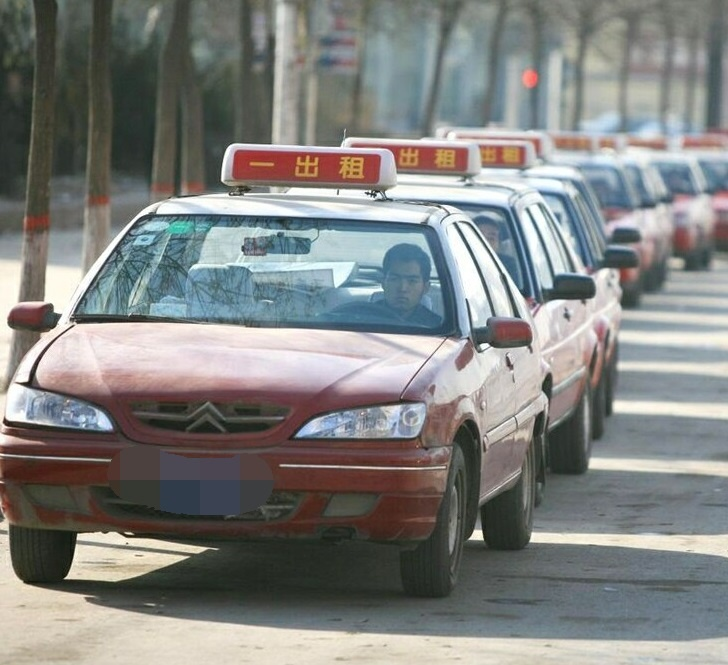taxi: (15, 147, 547, 587)
